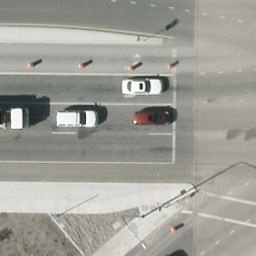car: (132, 107, 179, 127), (53, 110, 101, 128), (121, 80, 165, 97)
truck: (0, 105, 30, 135)
